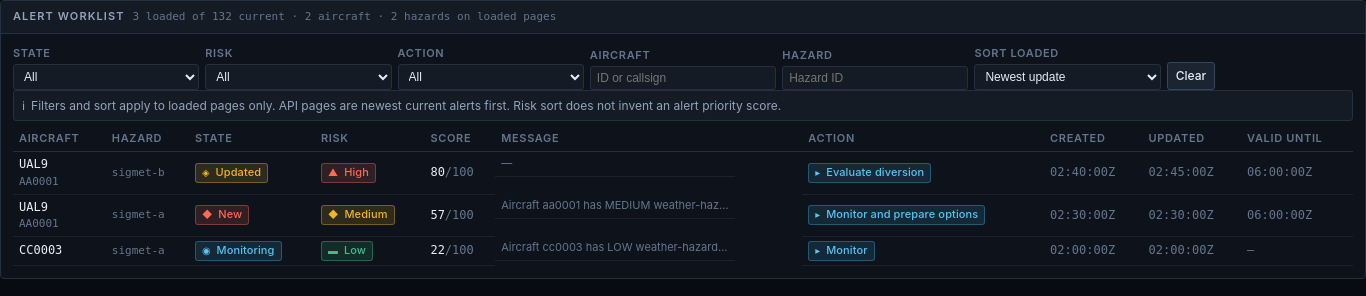
Test: AlertWorklist › filters loaded pages only
This screenshot has width=1366, height=296.
Expected: the text "CC0003" is shown, [19,243,62,257]
Step 1. Select "New" in the dropdown labelled "State" → (106, 77), box [13,64,199,90]
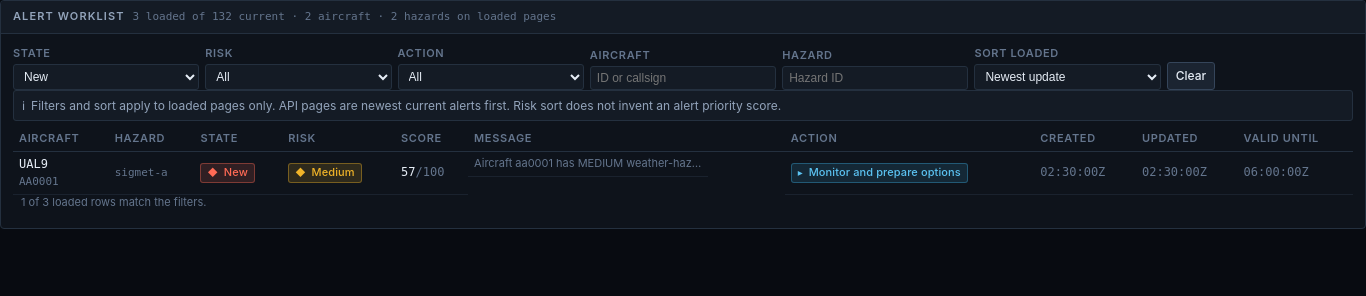
Expected: the text "UAL9" is shown, [19,157,48,171]
Result: the text "CC0003" is gone
Result: the text "1 of 3 loaded rows match the filters." is shown at [21,194,206,208]
